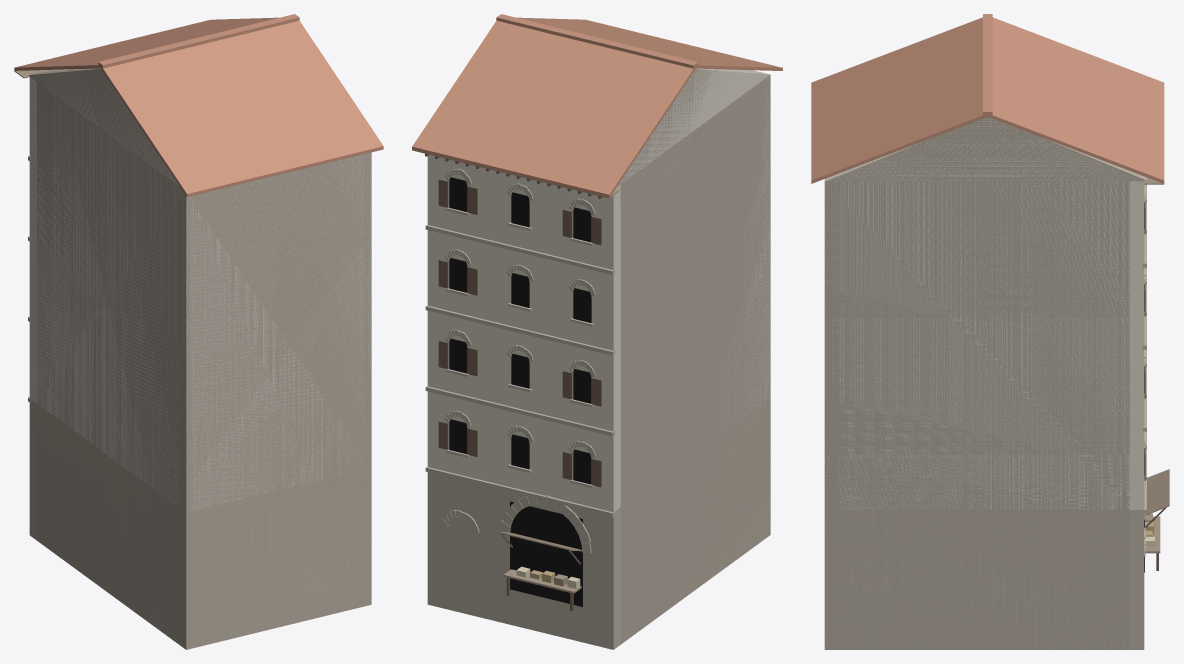
The model's file is casa-82-4-intonaco.glb.
3 renders of one model, left to right at view 1: azimuth 30°, elevation 25°; view 2: azimuth 150°, elevation 25°; view 3: azimuth 270°, elevation 25°, orthographic. The views are drawn at different scales.
Parts seen in each view (by area): view 1: vicino, lontano; view 2: vicino, lontano, aperta; view 3: vicino, lontano, aperta.
Boxes of the visible parts, box(x1,y1,x2,y2) form: vicino: box(14, 14, 383, 649); lontano: box(16, 65, 383, 646); vicino: box(412, 14, 782, 649); lontano: box(413, 66, 782, 648); aperta: box(498, 532, 582, 611); vicino: box(811, 14, 1164, 649); lontano: box(811, 115, 1163, 649); aperta: box(1145, 469, 1169, 570).
Size of the model in its own units: 8.7 by 22.38 by 13.45.
